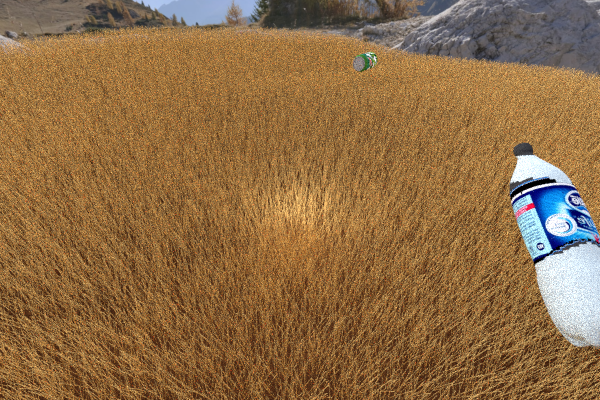bottle: (509, 142, 600, 349)
can: (218, 84, 265, 111), (352, 51, 377, 71)
